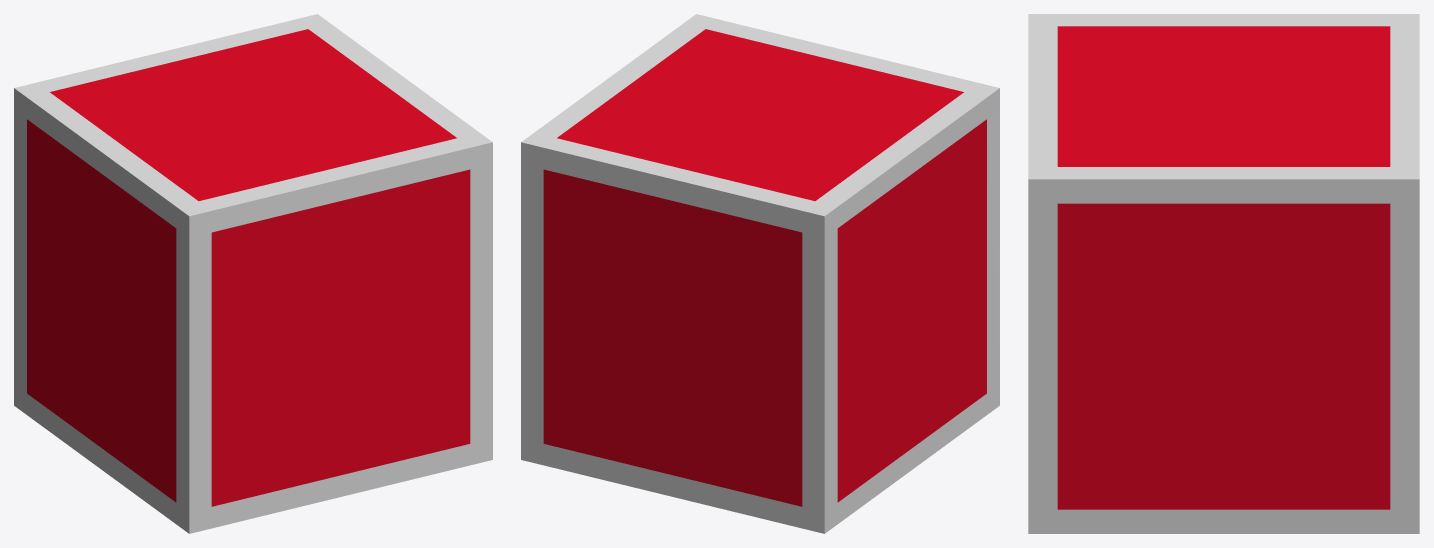
The model's file is RedCube.dae.
The picture shows the model from 3 angles, left to right: view 1: azimuth 30°, elevation 25°; view 2: azimuth 150°, elevation 25°; view 3: azimuth 270°, elevation 25°; orthographic projection. The views are drawn at different scales.
Parts seen in each view (by area): view 1: Cube; view 2: Cube; view 3: Cube.
Boxes of the visible parts, left/top/right/bottom form: Cube: left=14, top=14, right=492, bottom=533; Cube: left=521, top=14, right=999, bottom=533; Cube: left=1028, top=14, right=1419, bottom=533.
Bounding box in the file's own units: 0.055 × 0.055 × 0.055.
